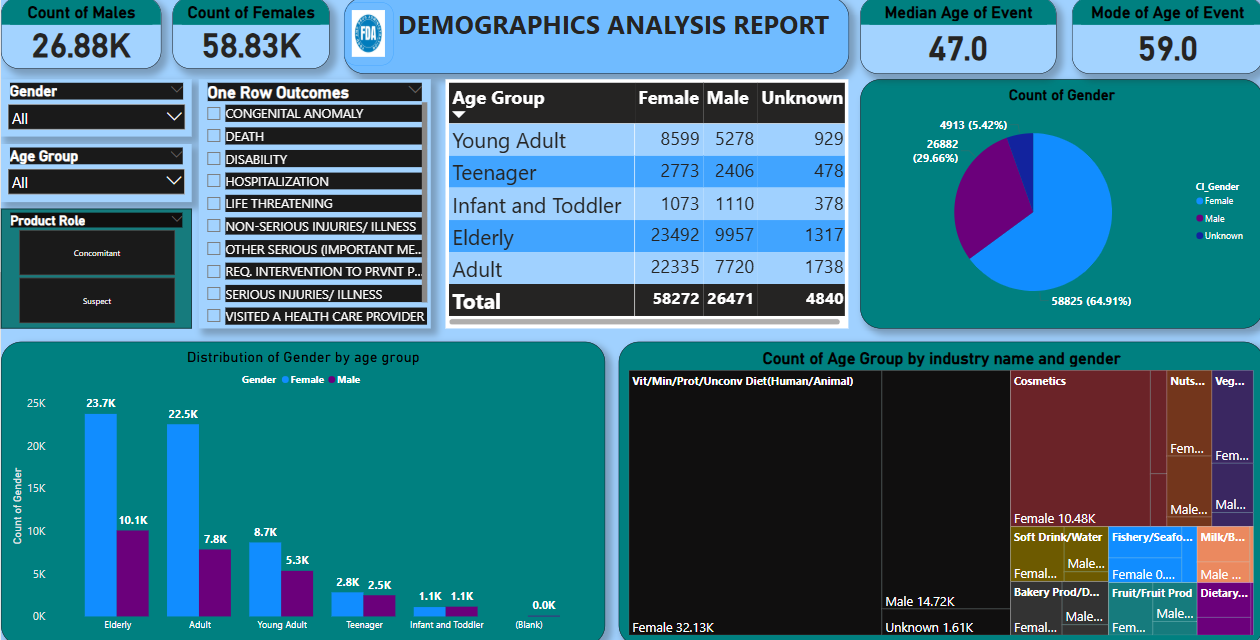

What the dashboard file says about the page in this screenshot:
{"tool":"powerbi","page":{"name":"Demographics Analysis Dashboard","canvas":[1850,950],"ordinal":1},"visuals":[{"type":"card","title":"Count of Females","fields":{"Values":["CountNonNull(CAERS_ASCII_2004_2017Q2.CI_Gender)"]},"box":[252.5,0,230,105],"z":0},{"type":"textbox","box":[502.5,0,740,112.5],"z":1000},{"type":"card","title":"Count of Males","fields":{"Values":["CountNonNull(CAERS_ASCII_2004_2017Q2.CI_Gender)"]},"box":[0,0,235,105],"z":2000},{"type":"pieChart","title":"Count of Gender ","fields":{"Category":["CAERS_ASCII_2004_2017Q2.CI_Gender"],"Y":["CountNonNull(CAERS_ASCII_2004_2017Q2.CI_Gender)"]},"box":[1260,120,590,365],"z":3000},{"type":"clusteredColumnChart","title":"Distribution of Gender by age group","fields":{"Category":["CAERS_ASCII_2004_2017Q2.Age Group"],"Y":["CountNonNull(CAERS_ASCII_2004_2017Q2.CI_Gender)"],"Series":["CAERS_ASCII_2004_2017Q2.CI_Gender"]},"box":[0,505,885,445],"z":4000},{"type":"slicer","fields":{"Values":["CAERS_ASCII_2004_2017Q2.CI_Gender"]},"box":[0,119.9,279.7,84.2],"z":5000},{"type":"slicer","fields":{"Values":["CAERS_ASCII_2004_2017Q2.Age Group"]},"box":[0,216,279.4,85],"z":6000},{"type":"treemap","title":"Count of Age Group by  industry name and gender","fields":{"Values":["CountNonNull(CAERS_ASCII_2004_2017Q2.Age Group)"],"Group":["CAERS_ASCII_2004_2017Q2.PRI_FDA Industry Name"],"Details":["CAERS_ASCII_2004_2017Q2.CI_Gender"]},"box":[905,505,945,445],"z":7000},{"type":"slicer","fields":{"Values":["CAERS_ASCII_2004_2017Q2.PRI_Product Role"]},"box":[0,311,279.4,175.7],"z":8000},{"type":"slicer","fields":{"Values":["CAERS_ASCII_2004_2017Q2.AEC_One Row Outcomes.1"]},"box":[290,120,340,365],"z":9000},{"type":"pivotTable","fields":{"Rows":["CAERS_ASCII_2004_2017Q2.Age Group"],"Values":["CountNonNull(CAERS_ASCII_2004_2017Q2.RA_Report #)"],"Columns":["CAERS_ASCII_2004_2017Q2.CI_Gender"]},"box":[652.5,120,590,365],"z":10000},{"type":"card","title":"Median Age of Event","fields":{"Values":["CAERS_ASCII_2004_2017Q2.Median_age"]},"box":[1260,0,287.5,112.5],"z":11000},{"type":"card","title":"Mode of Age of Event","fields":{"Values":["CAERS_ASCII_2004_2017Q2.Mode_Value"]},"box":[1570,0,280,112.5],"z":12000},{"type":"image","box":[502.5,7.5,72.5,92.5],"z":13000}]}

Visuals, with their boxes in screenshot pixels (x1, y1, x2, y2), scaled from the page's 1850x950 canvas onto the 1260x640 screenshot:
"Count of Females" card: bbox=[172, 0, 329, 71]
textbox: bbox=[342, 0, 846, 76]
"Count of Males" card: bbox=[0, 0, 160, 71]
"Count of Gender " pieChart: bbox=[858, 81, 1259, 327]
"Distribution of Gender by age group" clusteredColumnChart: bbox=[0, 340, 603, 639]
slicer - CAERS_ASCII_2004_2017Q2.CI_Gender: bbox=[0, 81, 190, 137]
slicer - CAERS_ASCII_2004_2017Q2.Age Group: bbox=[0, 146, 190, 203]
"Count of Age Group by  industry name and gender" treemap: bbox=[616, 340, 1259, 639]
slicer - CAERS_ASCII_2004_2017Q2.PRI_Product Role: bbox=[0, 210, 190, 328]
slicer - CAERS_ASCII_2004_2017Q2.AEC_One Row Outcomes.1: bbox=[198, 81, 429, 327]
pivotTable - CAERS_ASCII_2004_2017Q2.Age Group x CountNonNull(CAERS_ASCII_2004_2017Q2.RA_Report #): bbox=[444, 81, 846, 327]
"Median Age of Event" card: bbox=[858, 0, 1054, 76]
"Mode of Age of Event" card: bbox=[1069, 0, 1259, 76]
image: bbox=[342, 5, 392, 67]
